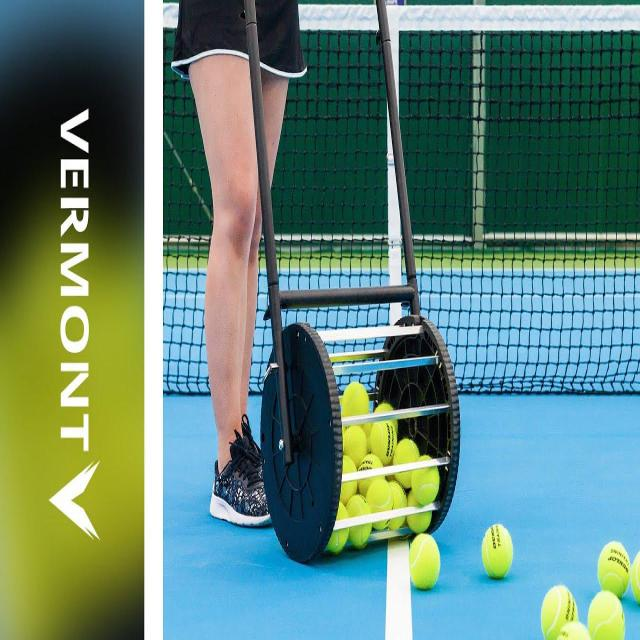ball: (475, 516, 522, 583), (402, 529, 448, 593)
